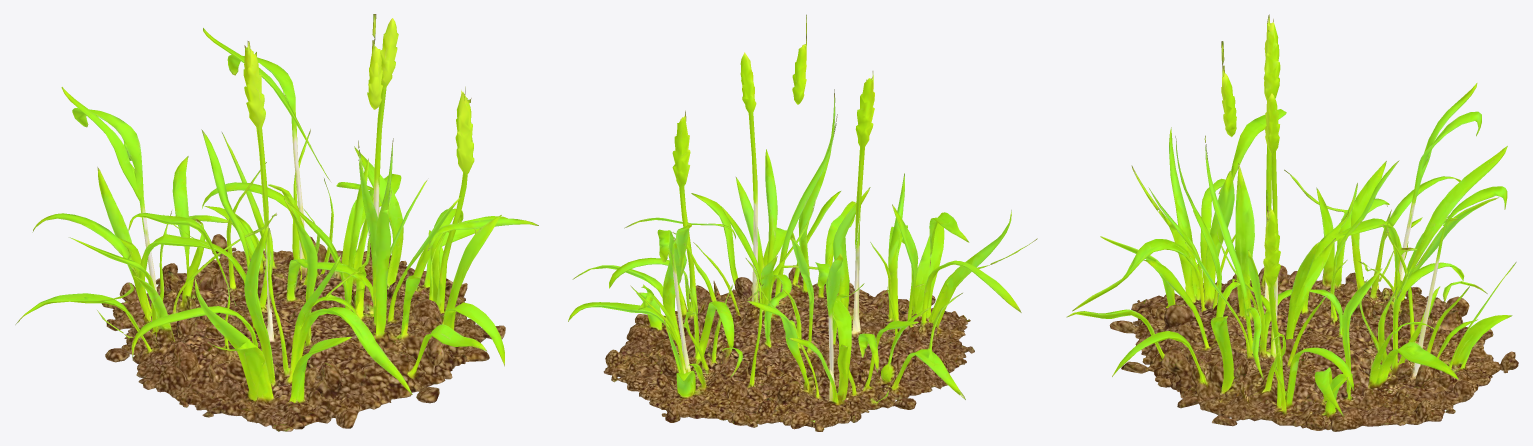
File: wheat-stage-1.glb
3 views of the same model, side by side, from view 1: azimuth 30°, elevation 25°; view 2: azimuth 150°, elevation 25°; view 3: azimuth 270°, elevation 25° (orthographic). The views are drawn at different scales.
Parts seen in each view (by area): view 1: Mesh_0; view 2: Mesh_0; view 3: Mesh_0.
Boxes of the visible parts, x1,y1,x2,y2 form: Mesh_0: (15, 14, 538, 431); Mesh_0: (568, 14, 1037, 431); Mesh_0: (1066, 14, 1518, 431).
Size of the model in its own units: 0.4189 by 0.3 by 0.3717.
Materials: 1 (1 with a texture image).
